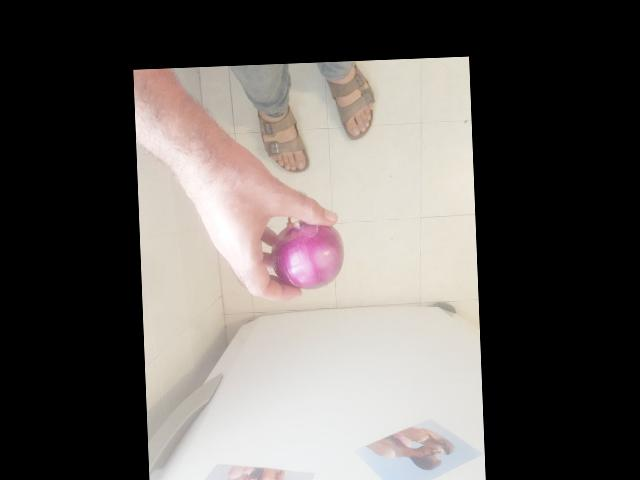onion: (265, 212, 346, 293)
